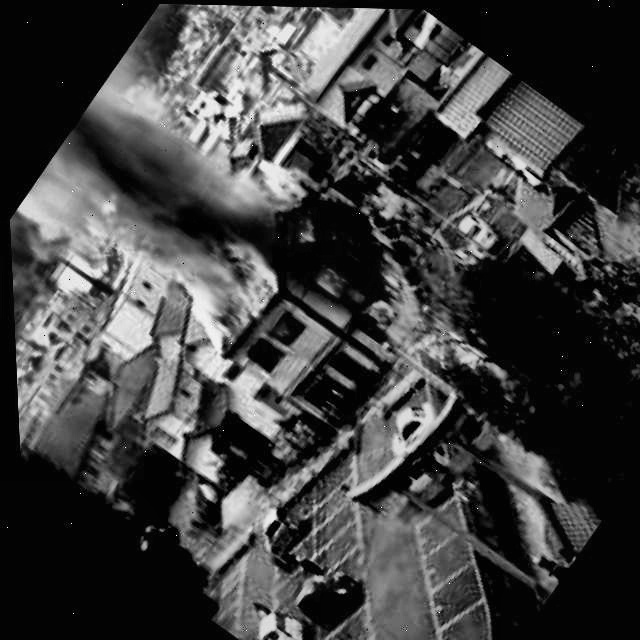Fire: (251, 192, 425, 350), (265, 307, 307, 349)
Smoke: (9, 75, 304, 350)
